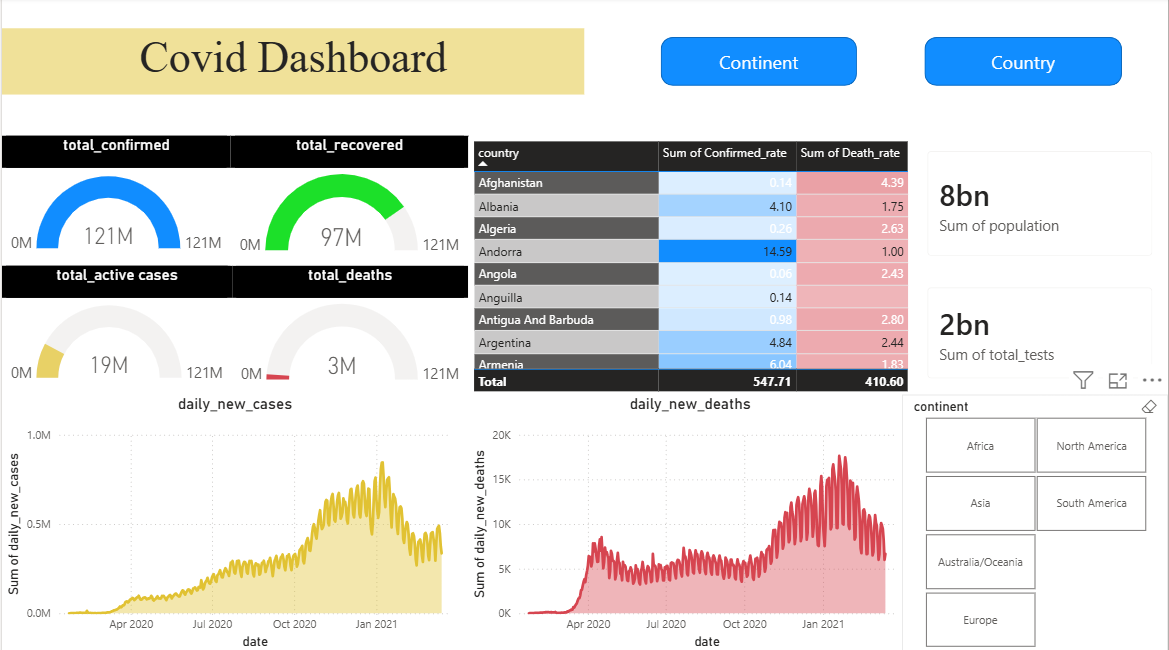

The page's visual inventory and layout, read from the dashboard file:
{"tool":"powerbi","page":{"name":"Summary_report","canvas":[1280,720],"ordinal":0},"visuals":[{"type":"gauge","title":"total_confirmed","fields":{"Y":["Sum(summary_data.total_confirmed)"],"MaxValue":["Sum(summary_data.total_confirmed)"]},"box":[0,152.3,251.1,142.7],"z":0},{"type":"gauge","title":"total_deaths","fields":{"MaxValue":["Sum(summary_data.total_confirmed)"],"Y":["Sum(summary_data.total_deaths)"]},"box":[252.5,295,259.3,141.3],"z":1000},{"type":"gauge","title":"total_active cases","fields":{"MaxValue":["Sum(summary_data.total_confirmed)"],"Y":["Sum(summary_data.active_cases)"]},"box":[0,295,252.5,141.3],"z":2000},{"type":"gauge","title":"total_recovered","fields":{"MaxValue":["Sum(summary_data.total_confirmed)"],"Y":["Sum(summary_data.total_recovered)"]},"box":[251.1,152.3,260.7,142.7],"z":3000},{"type":"tableEx","fields":{"Values":["summary_data.country","Sum(summary_data.Confirmed_rate)","Sum(summary_data.Death_rate)"]},"box":[511.8,153.7,500.9,284],"z":4000},{"type":"stackedAreaChart","title":"daily_new_cases ","fields":{"Y":["Sum(daily_data.daily_new_cases)"],"Category":["daily_data.date"]},"box":[0,436.4,511.8,284],"z":5000},{"type":"stackedAreaChart","title":"daily_new_deaths ","fields":{"Category":["daily_data.date"],"Y":["Sum(daily_data.daily_new_deaths)"]},"box":[511.8,436.4,487.1,284],"z":6000},{"type":"cardVisual","fields":{"Data":["Sum(summary_data.population)"]},"box":[999,152.3,281.3,149.6],"z":7000},{"type":"cardVisual","fields":{"Data":["Sum(summary_data.total_tests)"]},"box":[999,301.9,281.3,134.5],"z":8000},{"type":"slicer","fields":{"Values":["summary_data.continent"]},"box":[988,436.4,292.3,284],"z":9000},{"type":"shape","box":[723.2,43.9,215.4,53.5],"z":11000},{"type":"shape","box":[1012.7,43.9,216.8,53.5],"z":12000},{"type":"textbox","box":[0,34.3,639.5,72.7],"z":13000}]}

Visuals, with their boxes in screenshot pixels (x1, y1, x2, y2), scaled from the page's 1280x720 canvas onto the 1169x650 screenshot:
"total_confirmed" gauge: bbox(0, 137, 229, 266)
"total_deaths" gauge: bbox(231, 266, 467, 394)
"total_active cases" gauge: bbox(0, 266, 231, 394)
"total_recovered" gauge: bbox(229, 137, 467, 266)
tableEx - summary_data.country x Sum(summary_data.Confirmed_rate): bbox(467, 139, 925, 395)
"daily_new_cases " stackedAreaChart: bbox(0, 394, 467, 649)
"daily_new_deaths " stackedAreaChart: bbox(467, 394, 912, 649)
cardVisual - Sum(summary_data.population): bbox(912, 137, 1168, 273)
cardVisual - Sum(summary_data.total_tests): bbox(912, 273, 1168, 394)
slicer - summary_data.continent: bbox(902, 394, 1168, 649)
shape: bbox(660, 40, 857, 88)
shape: bbox(925, 40, 1123, 88)
textbox: bbox(0, 31, 584, 97)
